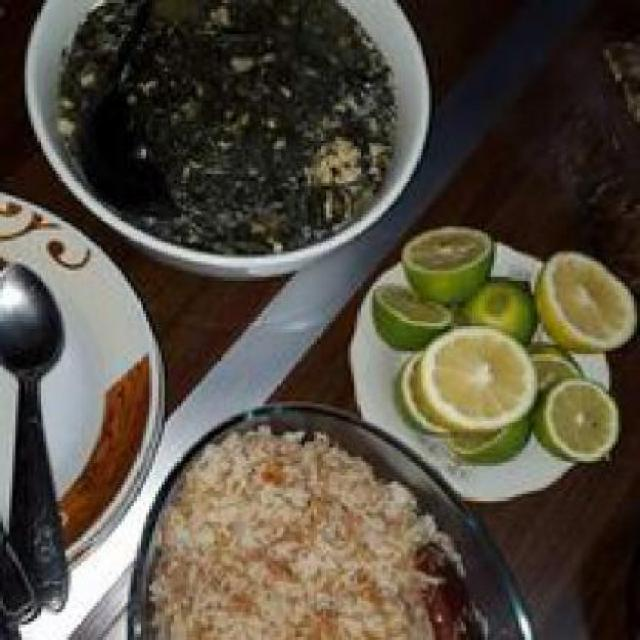fried rice: (143, 410, 488, 638)
